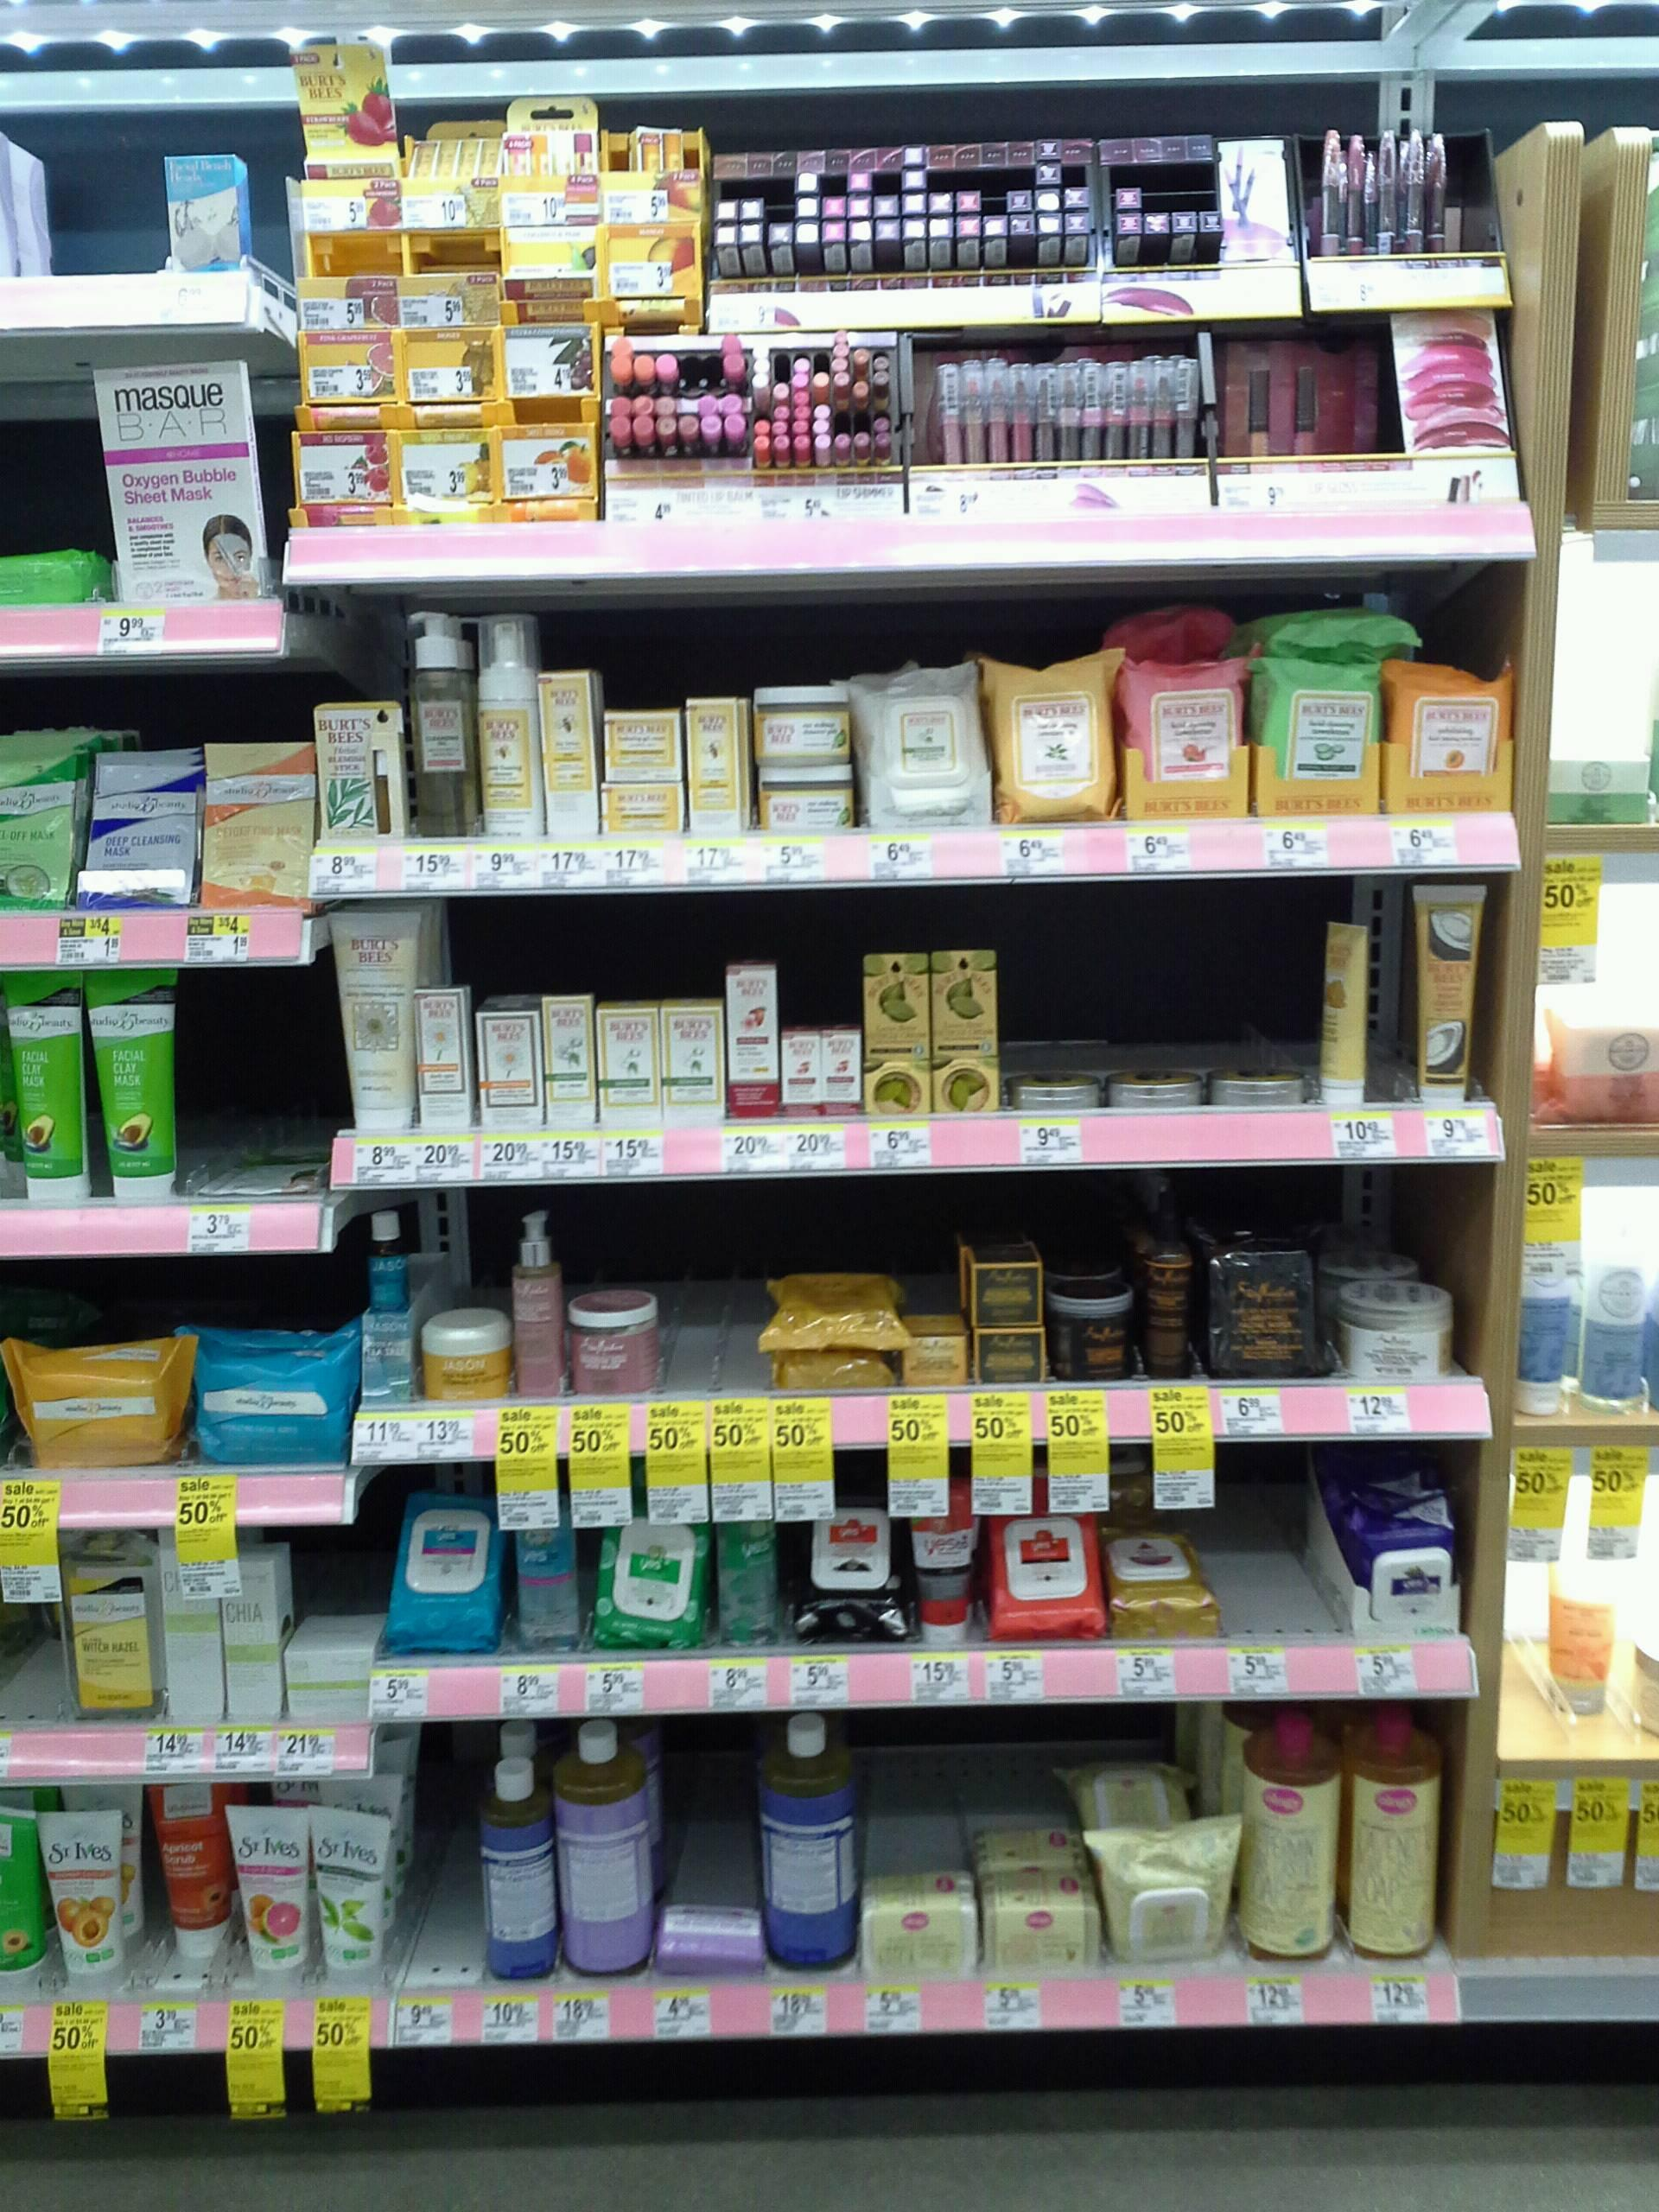misalignment: (1079, 1820, 1244, 1952), (1297, 916, 1391, 1104), (1246, 594, 1422, 660), (197, 1127, 331, 1200), (667, 1890, 767, 1986), (1094, 604, 1237, 662)
